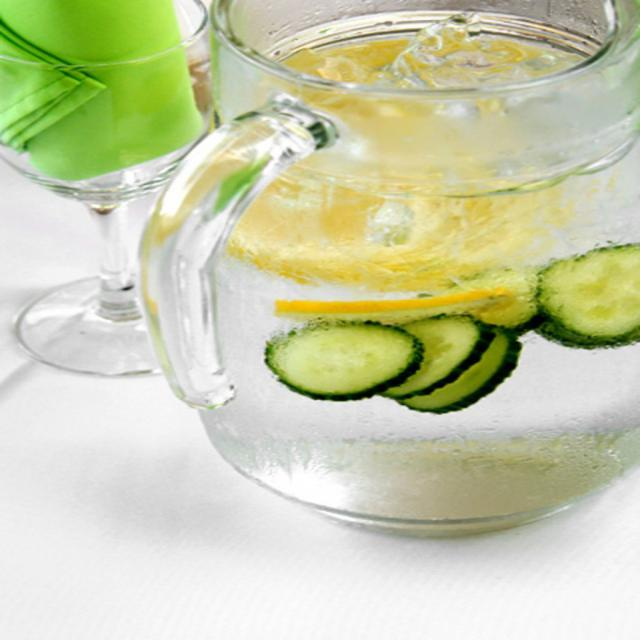Cucumber: (260, 243, 638, 425), (530, 245, 638, 351)
